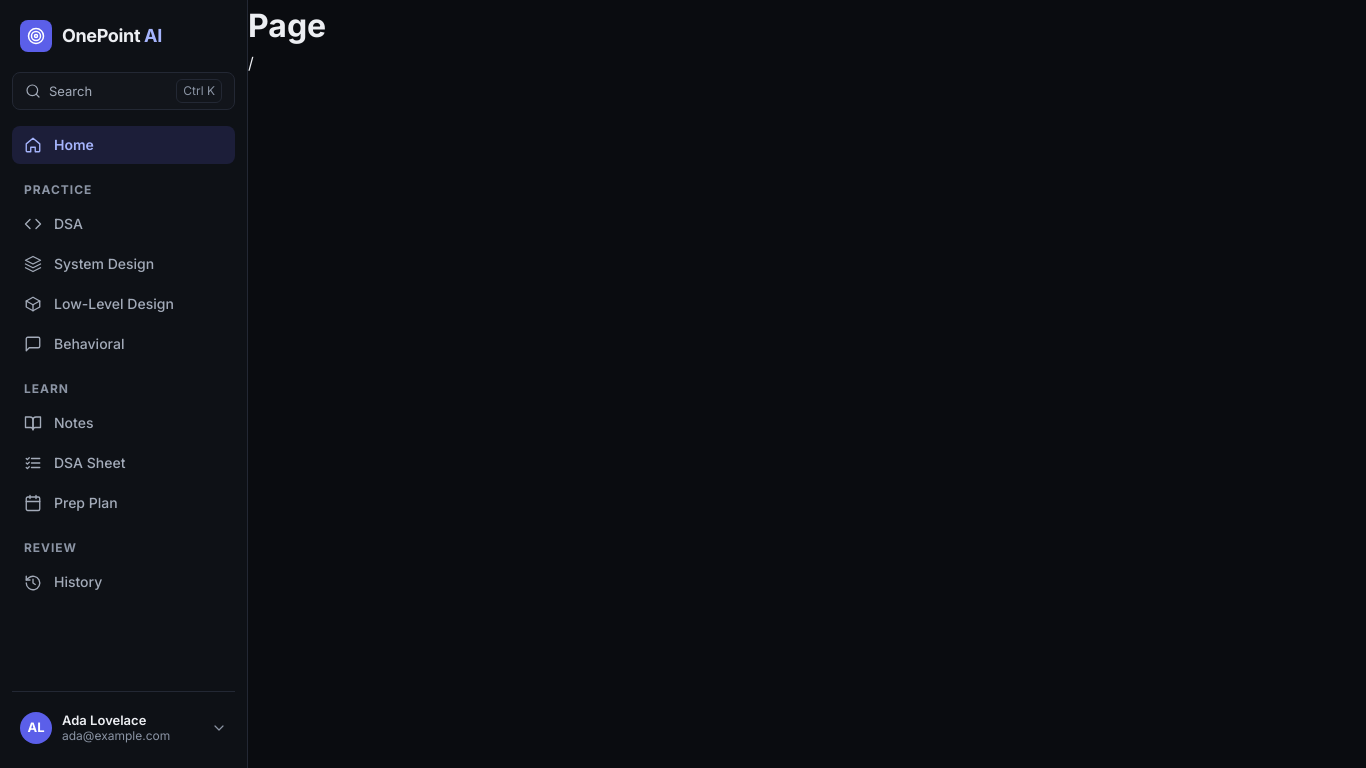
command palette › opens from the visible Search button
Click the button with aria-label "Search pages" at (124, 91), box [12, 72, 235, 110]
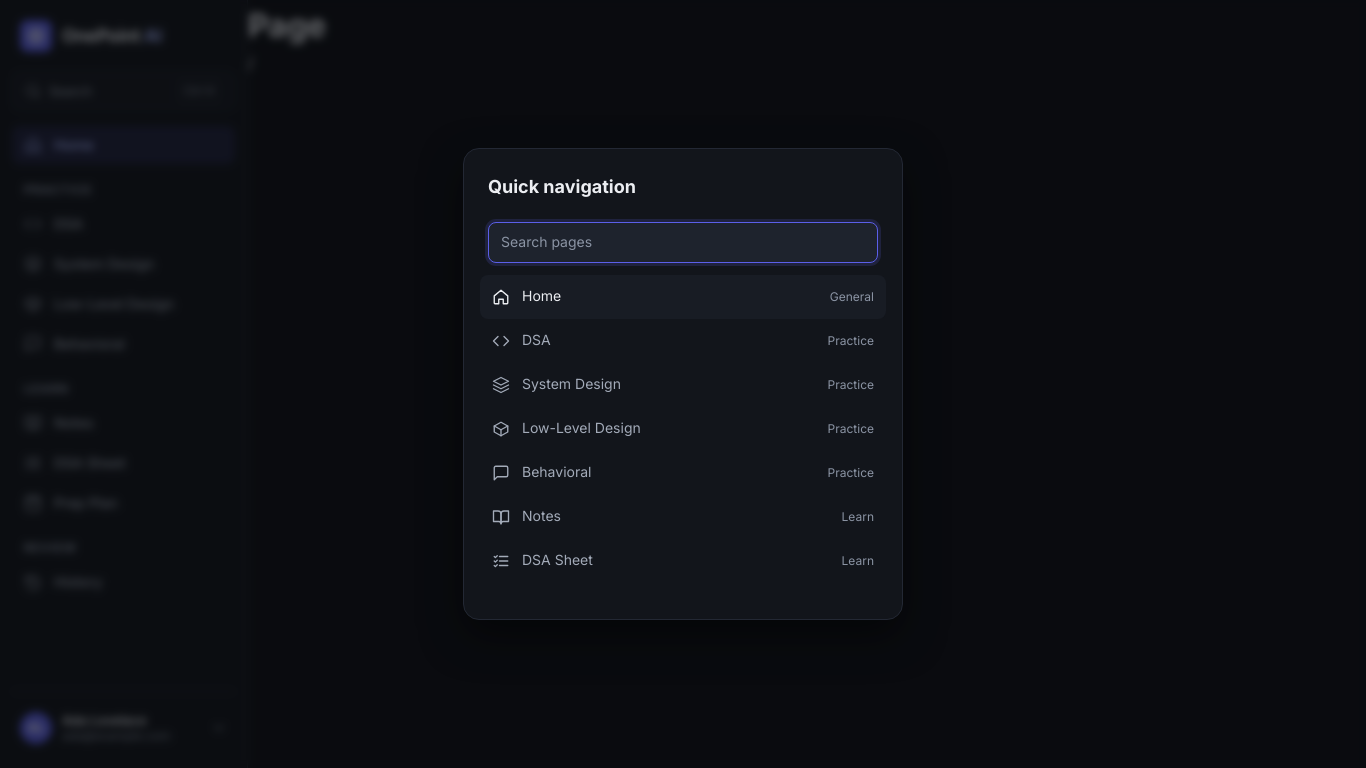
Now the dialog "Quick navigation" is shown, box [463, 148, 903, 620]
